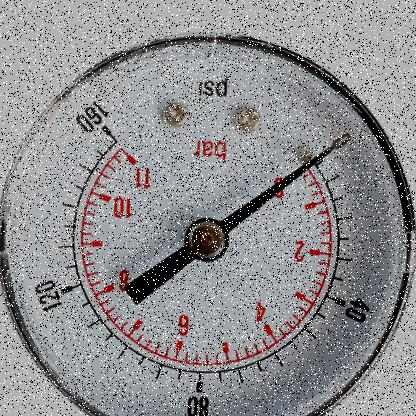needle: (220, 140, 340, 235)
